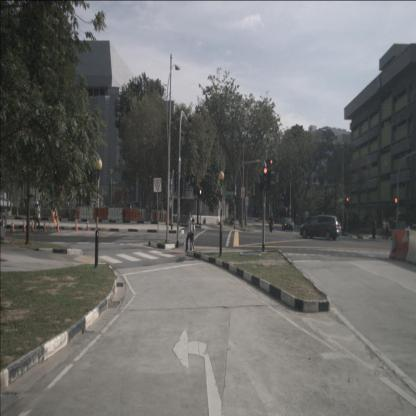human-pedestrian-adult: (185, 211, 193, 253), (382, 218, 386, 239), (386, 219, 390, 240)
movable_object-barrier: (389, 229, 409, 261), (404, 228, 416, 266), (122, 207, 144, 223), (150, 209, 168, 224), (108, 207, 124, 221), (78, 207, 95, 219), (93, 207, 108, 220)
movable_object-trafficcone: (30, 218, 36, 232), (10, 219, 16, 232), (22, 218, 27, 233), (74, 218, 79, 232), (42, 221, 47, 232), (56, 220, 60, 233), (86, 219, 90, 230)
vehicle-car: (300, 214, 342, 241), (128, 199, 153, 220), (0, 196, 15, 213), (282, 217, 294, 232), (286, 218, 295, 230)
vehicle-motorcycle: (268, 212, 275, 233)
